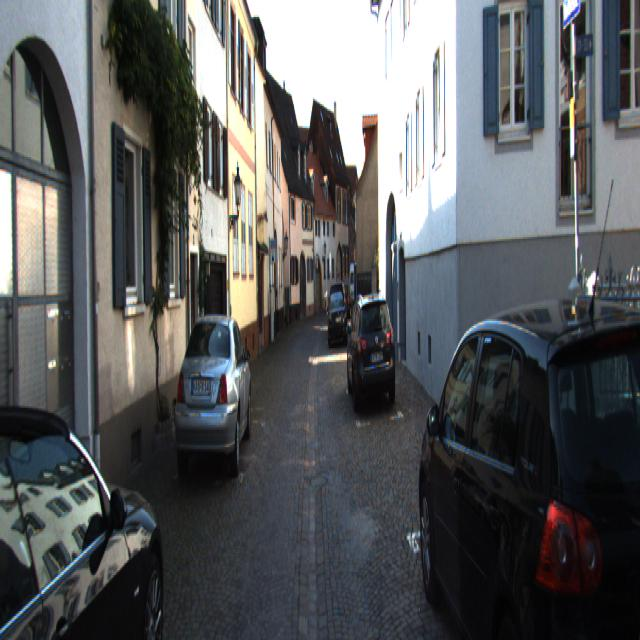Car: (410, 282, 640, 638), (0, 366, 168, 638), (173, 310, 252, 487), (345, 291, 396, 416), (349, 261, 369, 311), (328, 294, 347, 346)
